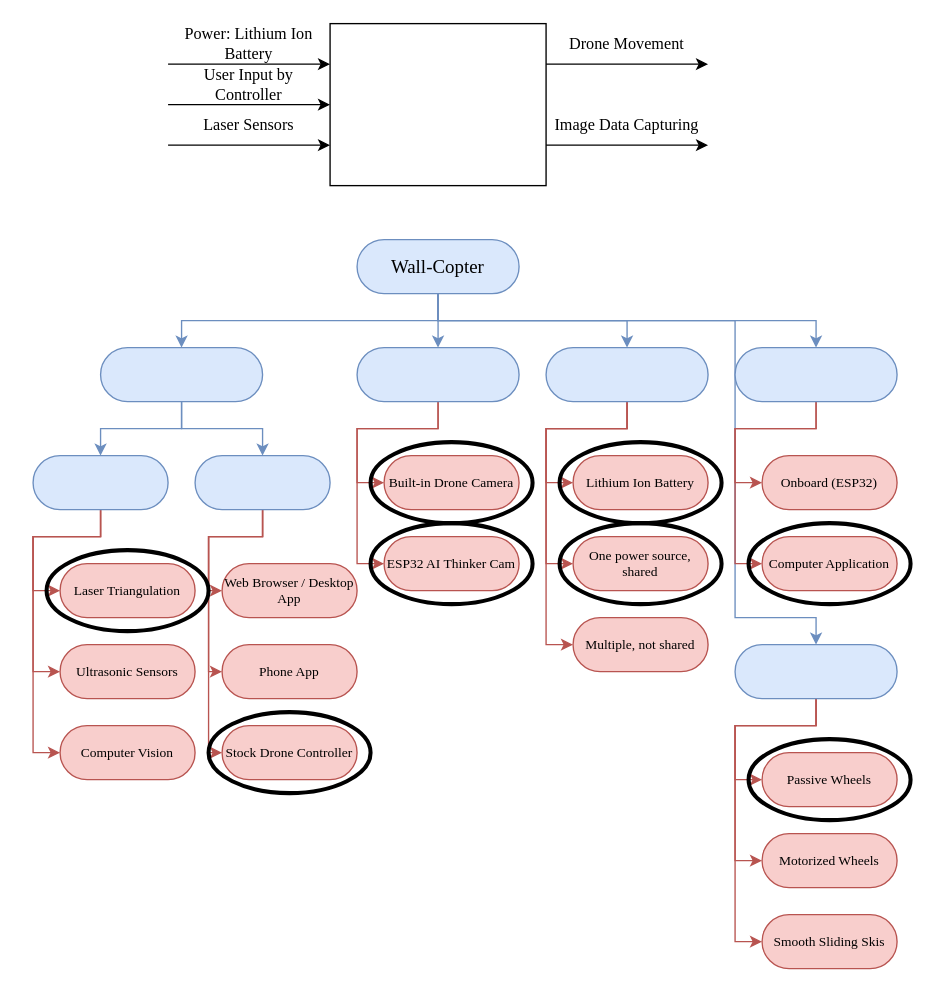
Image size: 936x992. Some labels were removed from this diagram. The centre of each missing label's shape, as x and y in pixels:
CAMERA: pixel 437 374
DATA PROCESSING: pixel 815 374
Design 3 Level 0: pixel 437 104
DISTANCE SENSING: pixel 100 482
FLIGHT-CONTROL: pixel 181 374
POWER: pixel 626 374
USER INTERFACE: pixel 262 482
Wheels: pixel 815 671
